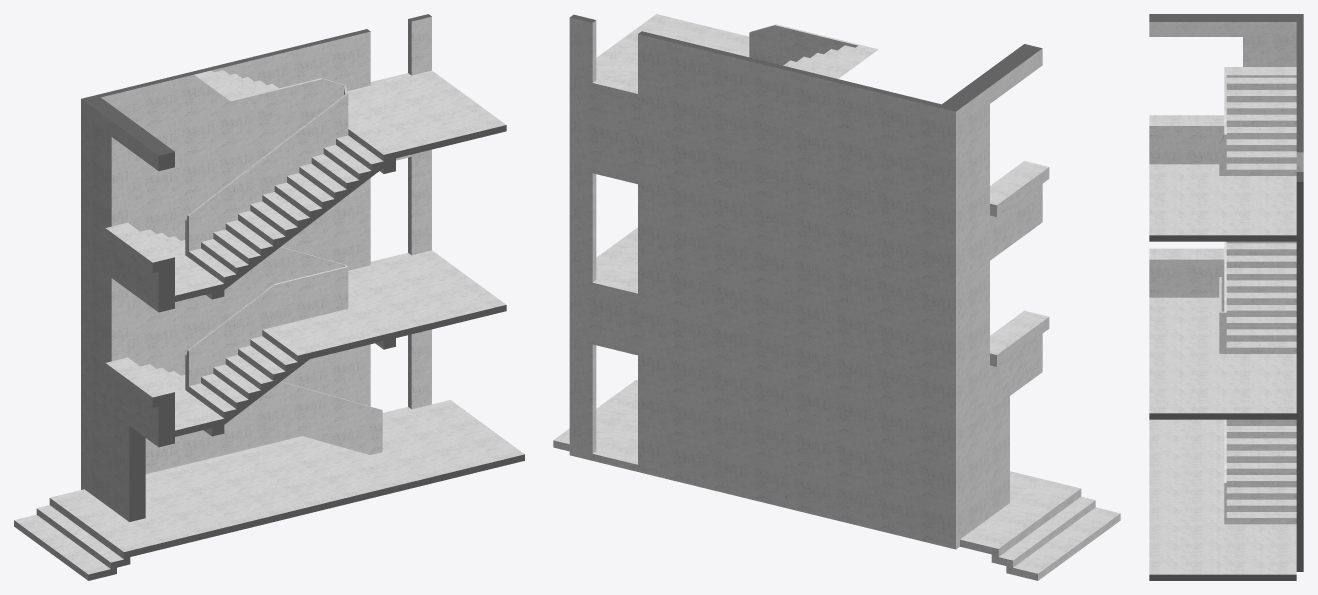
File: bottom-landing-entrance.glb
The picture shows the model from 3 angles, left to right: view 1: azimuth 30°, elevation 25°; view 2: azimuth 150°, elevation 25°; view 3: azimuth 270°, elevation 25°; orthographic projection. The views are drawn at different scales.
Parts seen in each view (by area): view 1: 底层中间平台下作出入口的处理方式-底层长短; view 2: 底层中间平台下作出入口的处理方式-底层长短; view 3: 底层中间平台下作出入口的处理方式-底层长短.
Boxes of the visible parts, <box> form: 底层中间平台下作出入口的处理方式-底层长短: <box>14,14,524,580</box>; 底层中间平台下作出入口的处理方式-底层长短: <box>553,14,1120,580</box>; 底层中间平台下作出入口的处理方式-底层长短: <box>1149,14,1303,580</box>.
Bounding box in the file's own units: 10.67 × 9.53 × 3.3.
3 materials, 1 textured.
